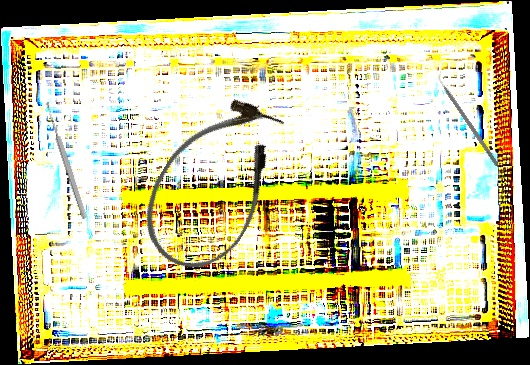Cannula: (123, 80, 305, 288)
Chopper: (434, 69, 504, 167)
Surgical Spoon: (43, 101, 89, 220)
